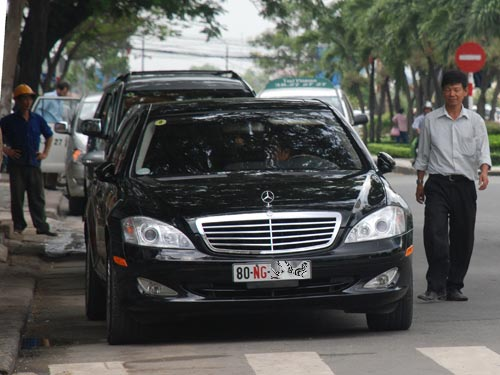plate: (229, 258, 316, 281)
